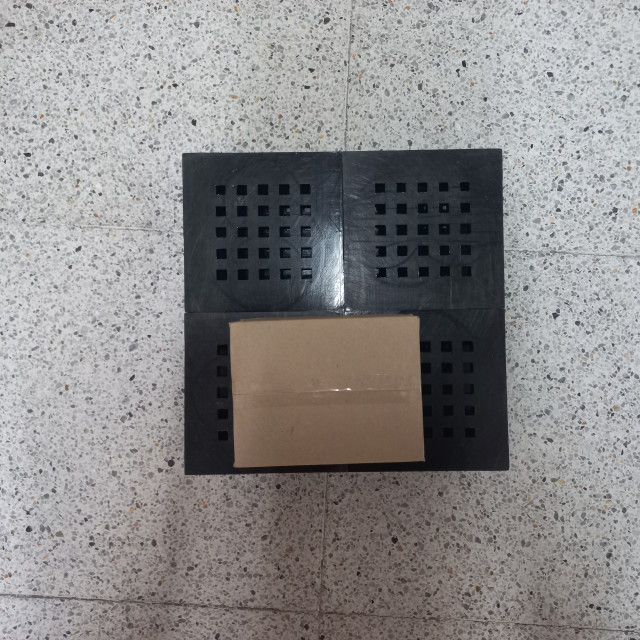box: (226, 312, 428, 470)
pallet: (180, 151, 510, 473)
